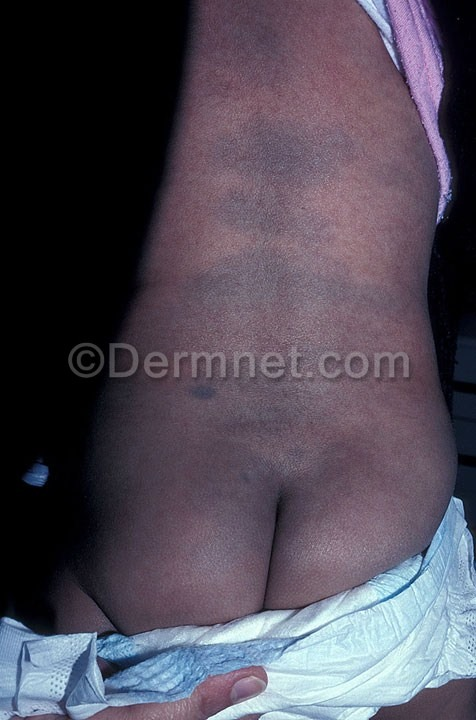Melasma: (202, 30, 381, 341), (185, 389, 363, 539)
